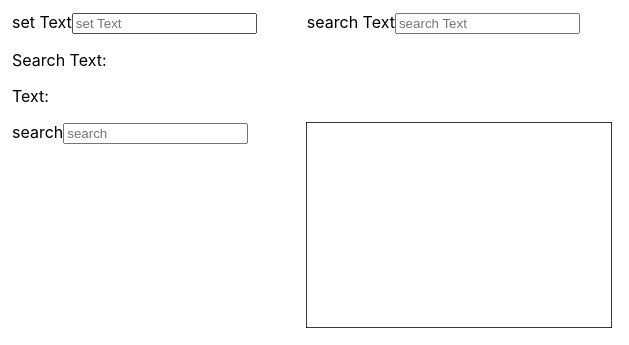
Test: App › input in set Text
Expected: the text "react" is not shown
Type "react" into the field labelled "set Text". click: x=164, y=24
box: top-left (72, 13), bottom-right (257, 34)
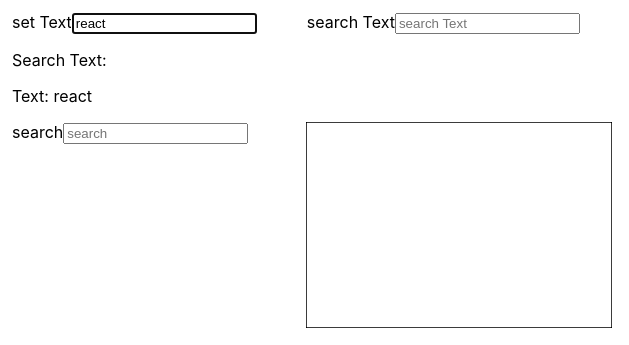
Expected: the text "asd" is not shown
Expected: the text "Text: react" is shown, top-left (12, 86), bottom-right (92, 106)
Type "asd" into the field labelled "search Text". click: x=488, y=24
box: top-left (395, 13), bottom-right (580, 34)
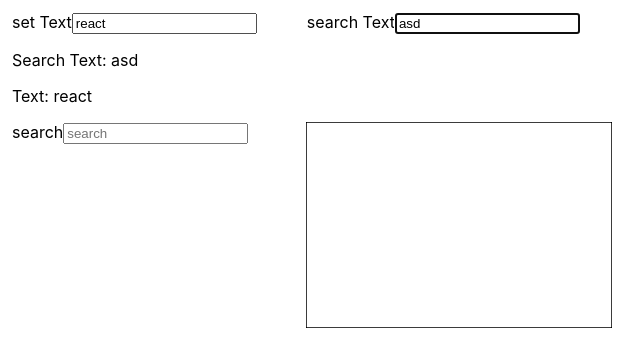
Expected: the text "Search Text: asd" is shown, top-left (12, 50), bottom-right (138, 70)
